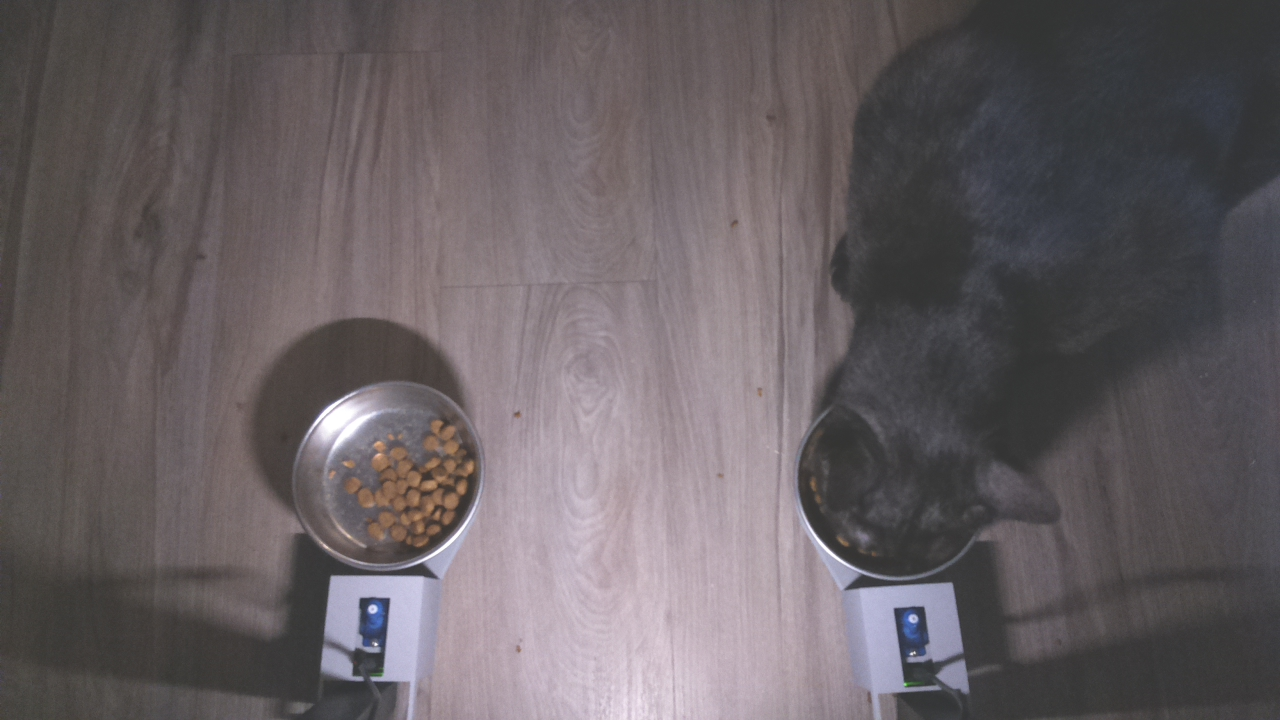open_bowl: (287, 376, 489, 583)
saki_eating: (791, 344, 1075, 584)
